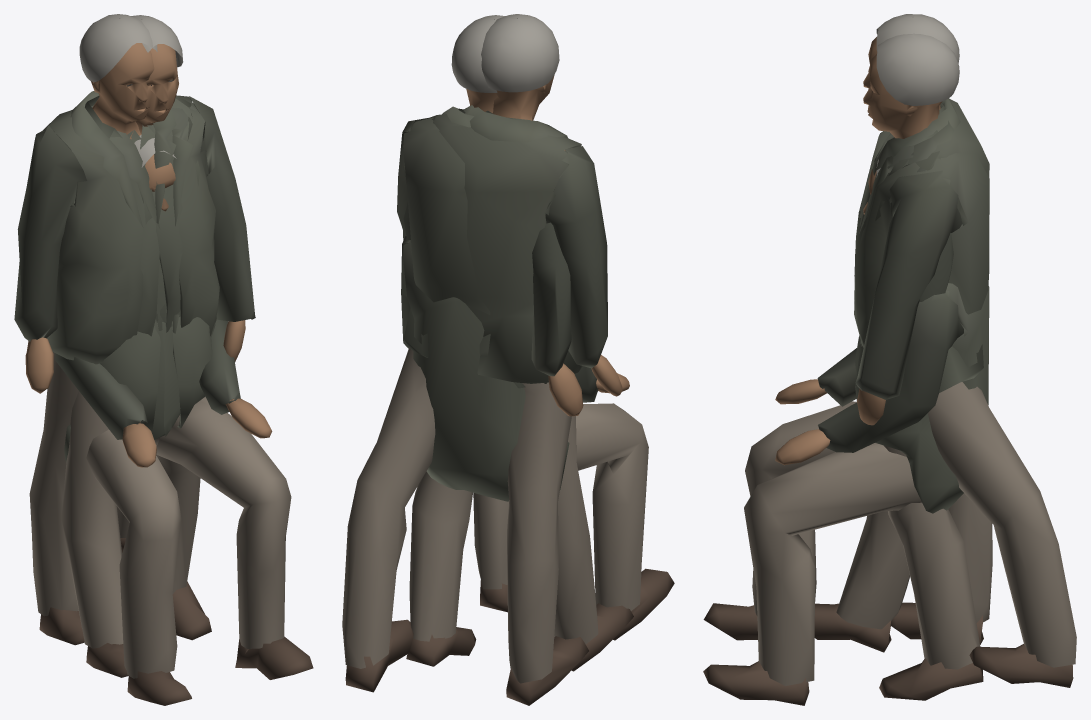
File: crowd-04-far.glb
3 views of the same model, side by side, from view 1: azimuth 30°, elevation 25°; view 2: azimuth 150°, elevation 25°; view 3: azimuth 270°, elevation 25° (orthographic). The views are drawn at different scales.
Visible parts, largest first — view 1: standing, seated, walking; view 2: standing, walking, seated; view 3: walking, seated, standing.
Part boxes in pixels (x1,y1,x2,y2): standing: (14, 14, 211, 645); seated: (55, 135, 313, 705); walking: (26, 15, 255, 677); standing: (403, 14, 622, 705); walking: (342, 15, 633, 692); seated: (401, 236, 674, 640); walking: (814, 33, 1076, 687); seated: (703, 156, 989, 705); standing: (854, 14, 992, 700).
Size of the model in its own units: 0.5921 by 1.67 by 0.8779.
